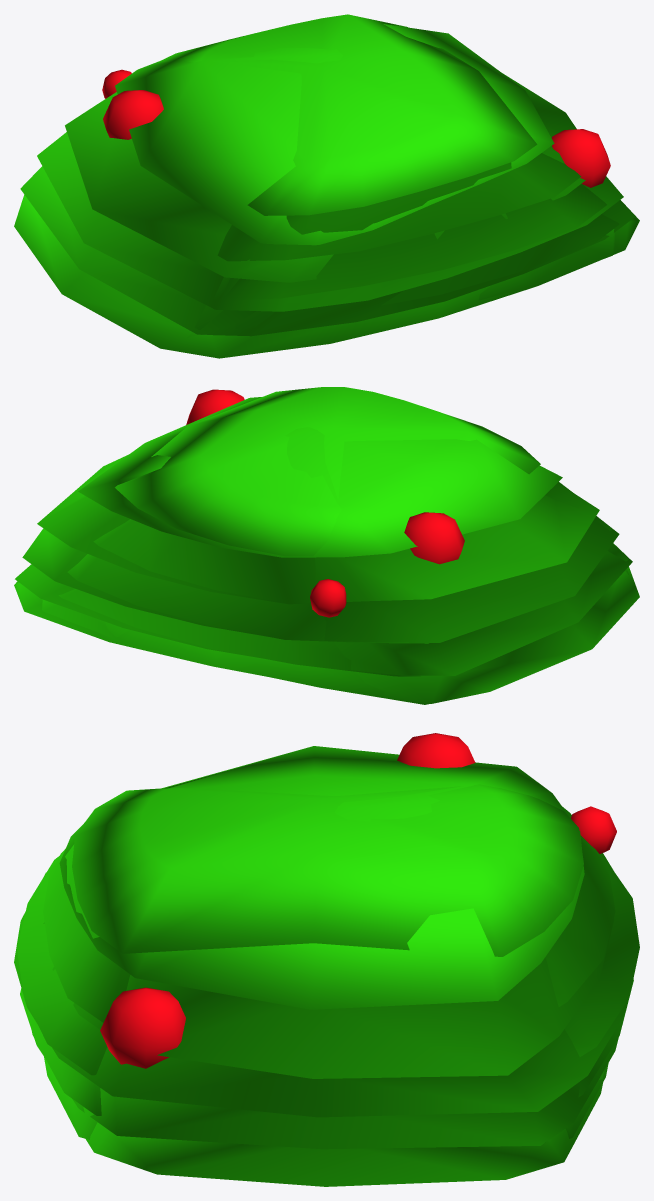
Rendered from buisson.glb.
The picture shows the model from 3 angles, top to bottom: view 1: azimuth 30°, elevation 25°; view 2: azimuth 150°, elevation 25°; view 3: azimuth 270°, elevation 25°; orthographic projection. The views are drawn at different scales.
Parts seen in each view (by area): view 1: buisson.002, buisson.001; view 2: buisson.002, buisson.001; view 3: buisson.002, buisson.001.
Part boxes in pixels (bbox=[...]): buisson.002: bbox=[14, 24, 639, 358]; buisson.001: bbox=[102, 14, 619, 337]; buisson.002: bbox=[14, 389, 639, 703]; buisson.001: bbox=[42, 387, 628, 704]; buisson.002: bbox=[14, 733, 627, 1186]; buisson.001: bbox=[17, 784, 639, 1139].
Size of the model in its own units: 1.77 by 0.5995 by 1.39.
